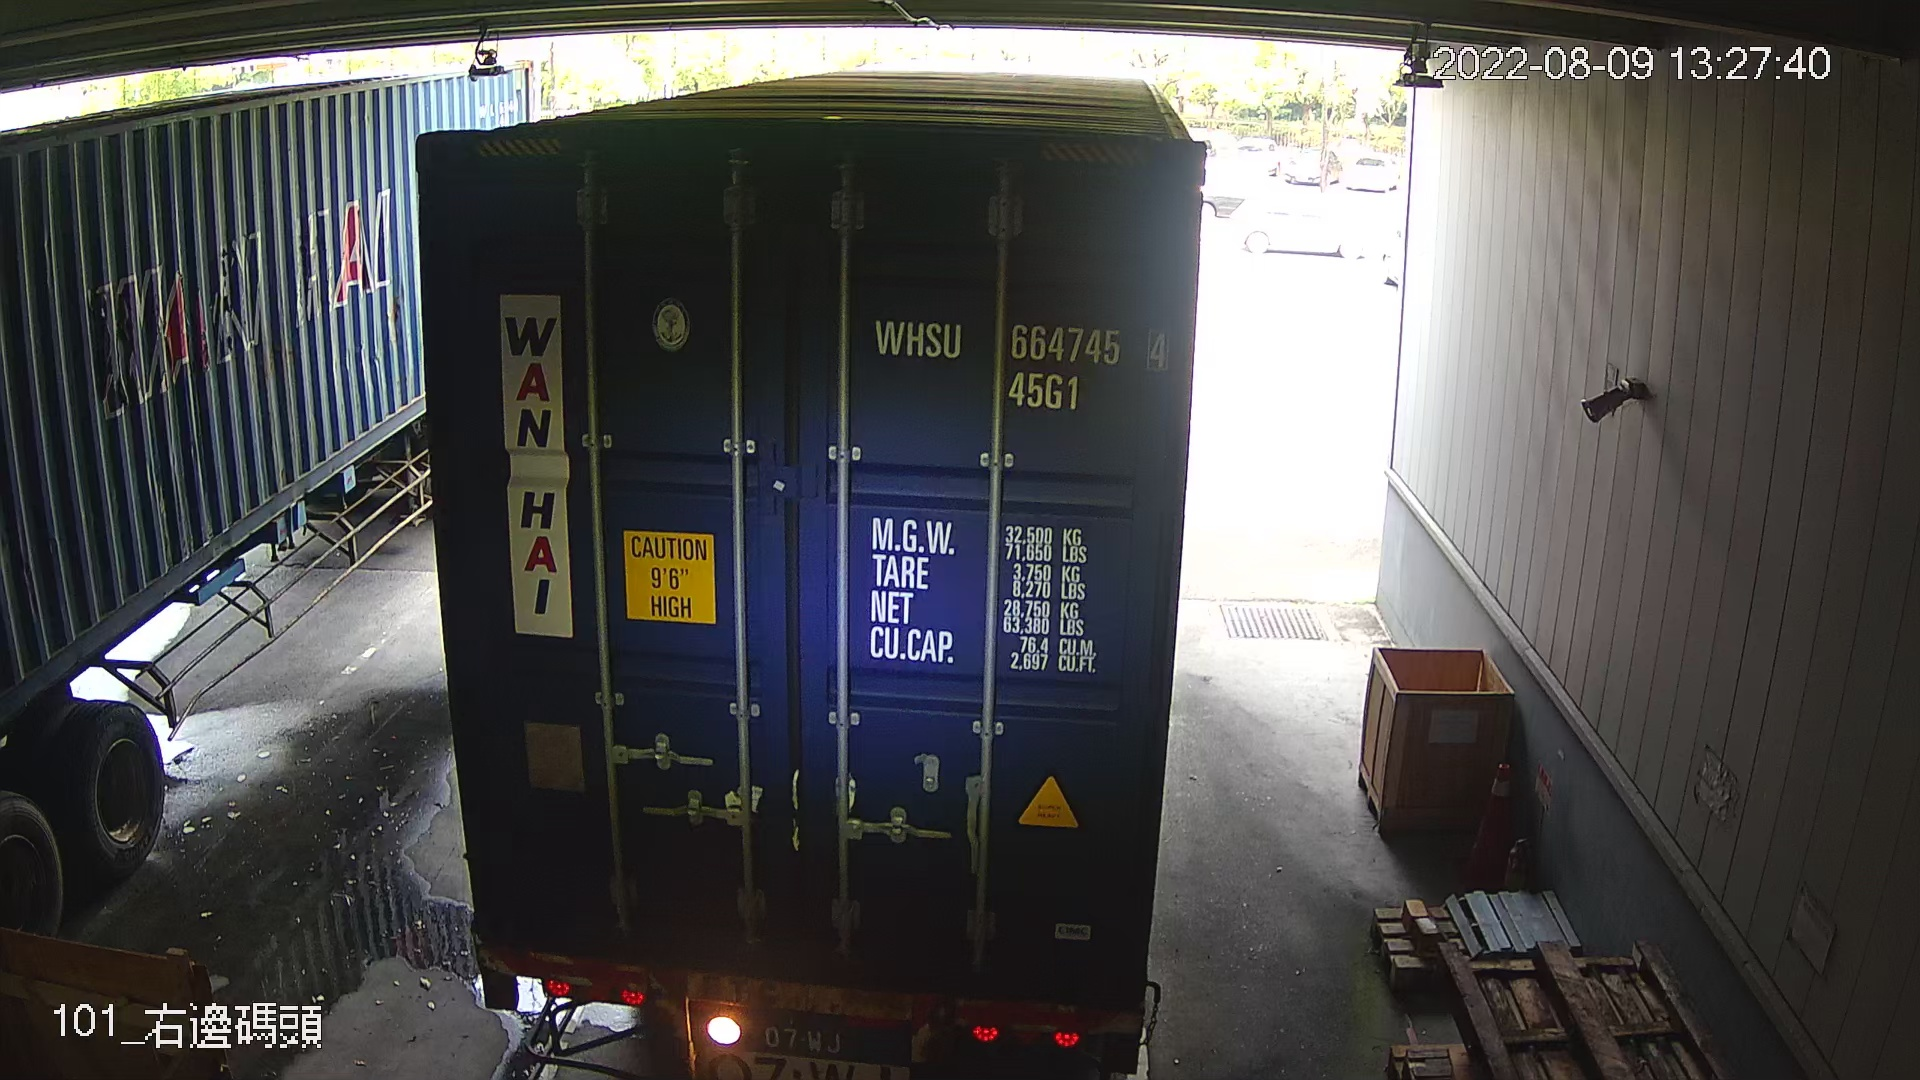container: (864, 305, 1178, 419)
